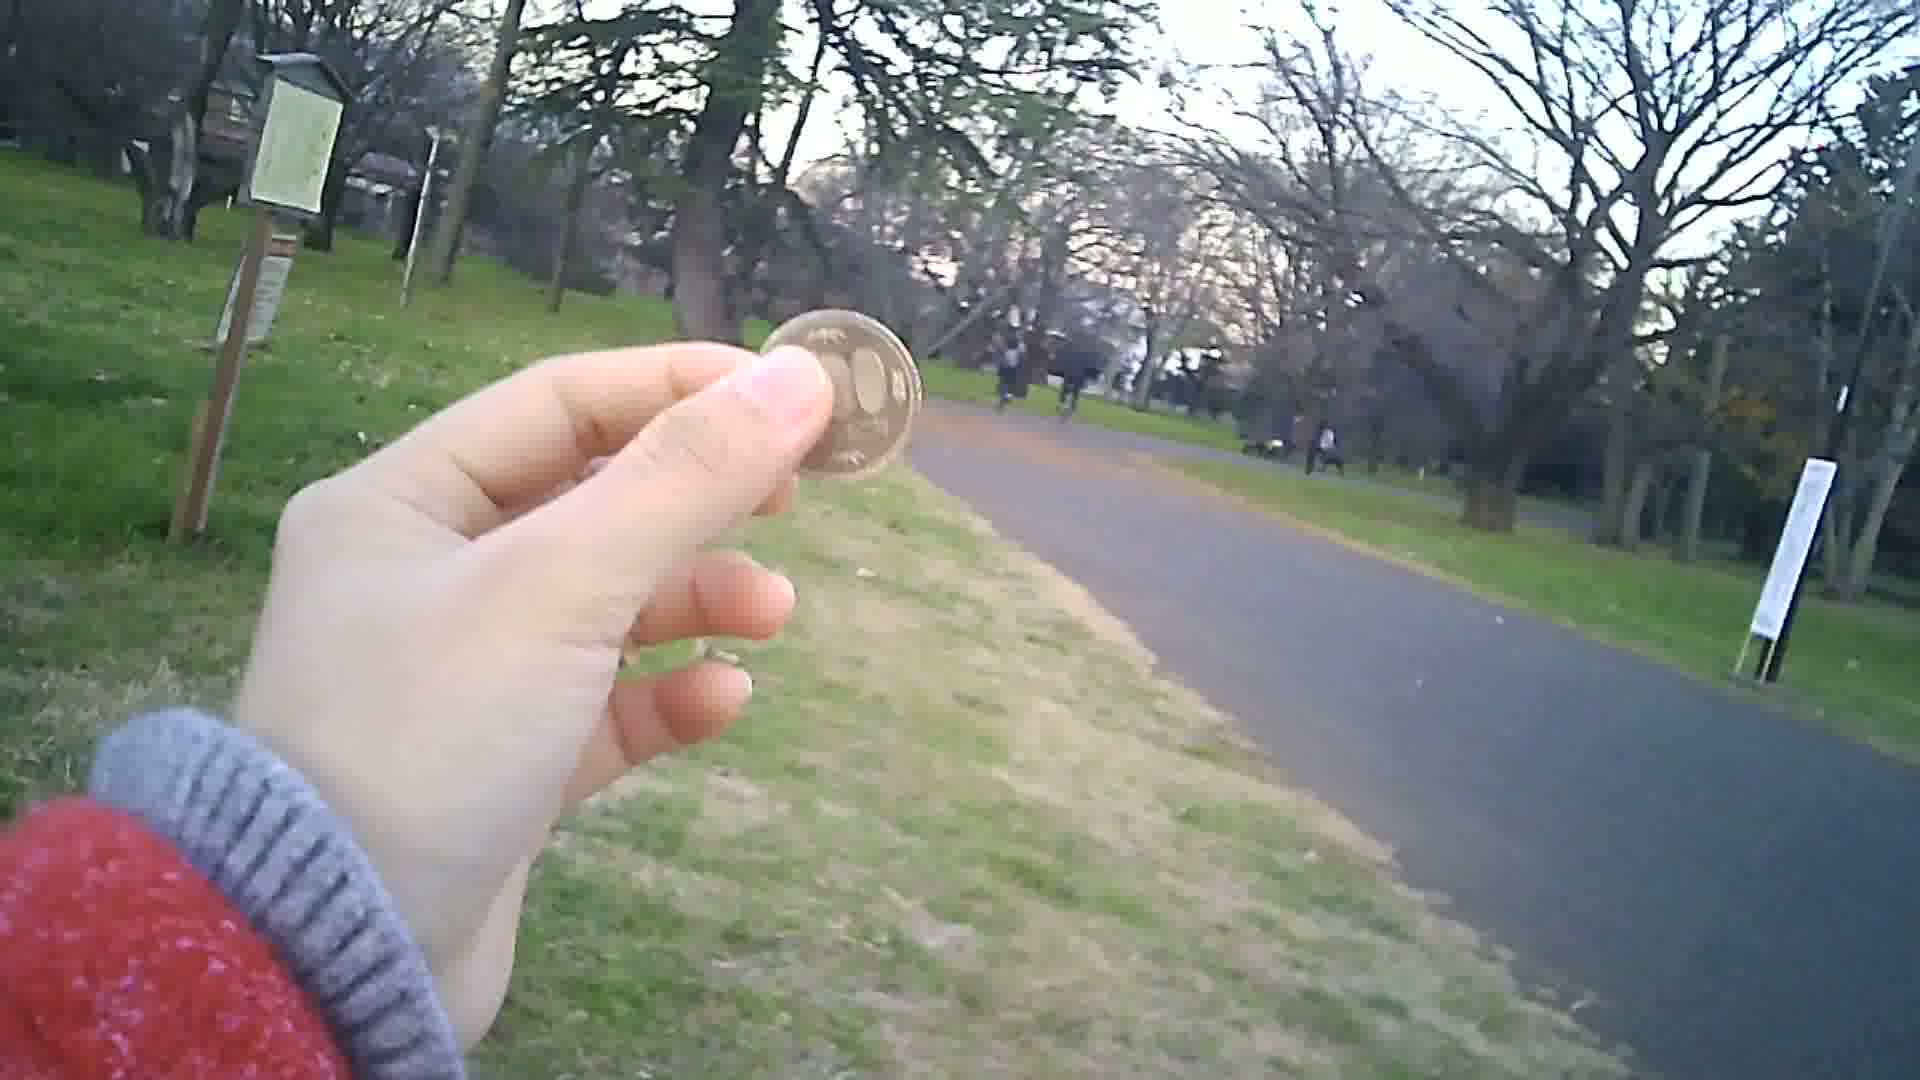500 Yen: (748, 301, 928, 483)
